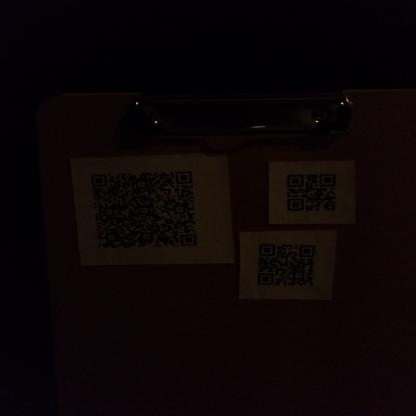qr: (89, 170, 202, 250), (256, 238, 321, 293), (283, 168, 341, 213)
